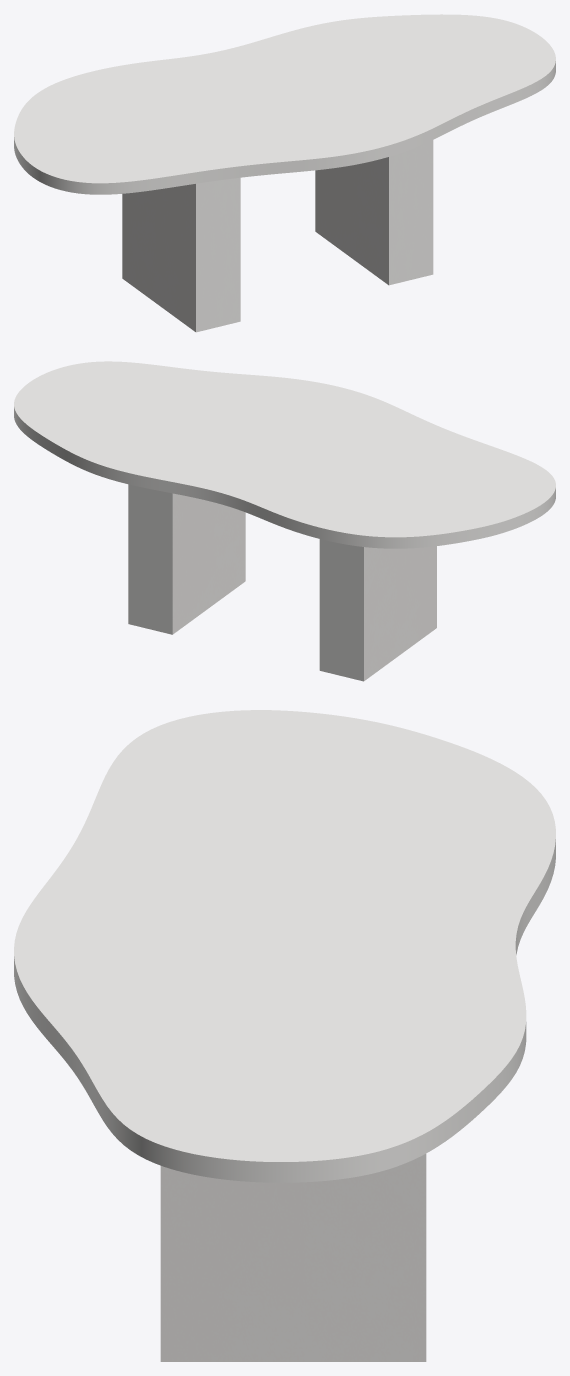
Rendered from purewhite_toplast_standard_ridge.glb.
3 renders of one model, top to bottom at view 1: azimuth 30°, elevation 25°; view 2: azimuth 150°, elevation 25°; view 3: azimuth 270°, elevation 25°, orthographic. The views are drawn at different scales.
Visible parts, largest first — view 1: standard_toplast, ridge; view 2: standard_toplast, ridge; view 3: standard_toplast, ridge.
Boxes of the visible parts, x1,y1,x2,y2 form: standard_toplast: (14, 14, 555, 194); ridge: (122, 140, 433, 332); standard_toplast: (14, 361, 555, 548); ridge: (128, 484, 436, 681); standard_toplast: (14, 710, 555, 1182); ridge: (160, 1154, 426, 1361).
Size of the model in its own units: 7.5 by 2.5 by 3.8.
1 material, 1 textured.
